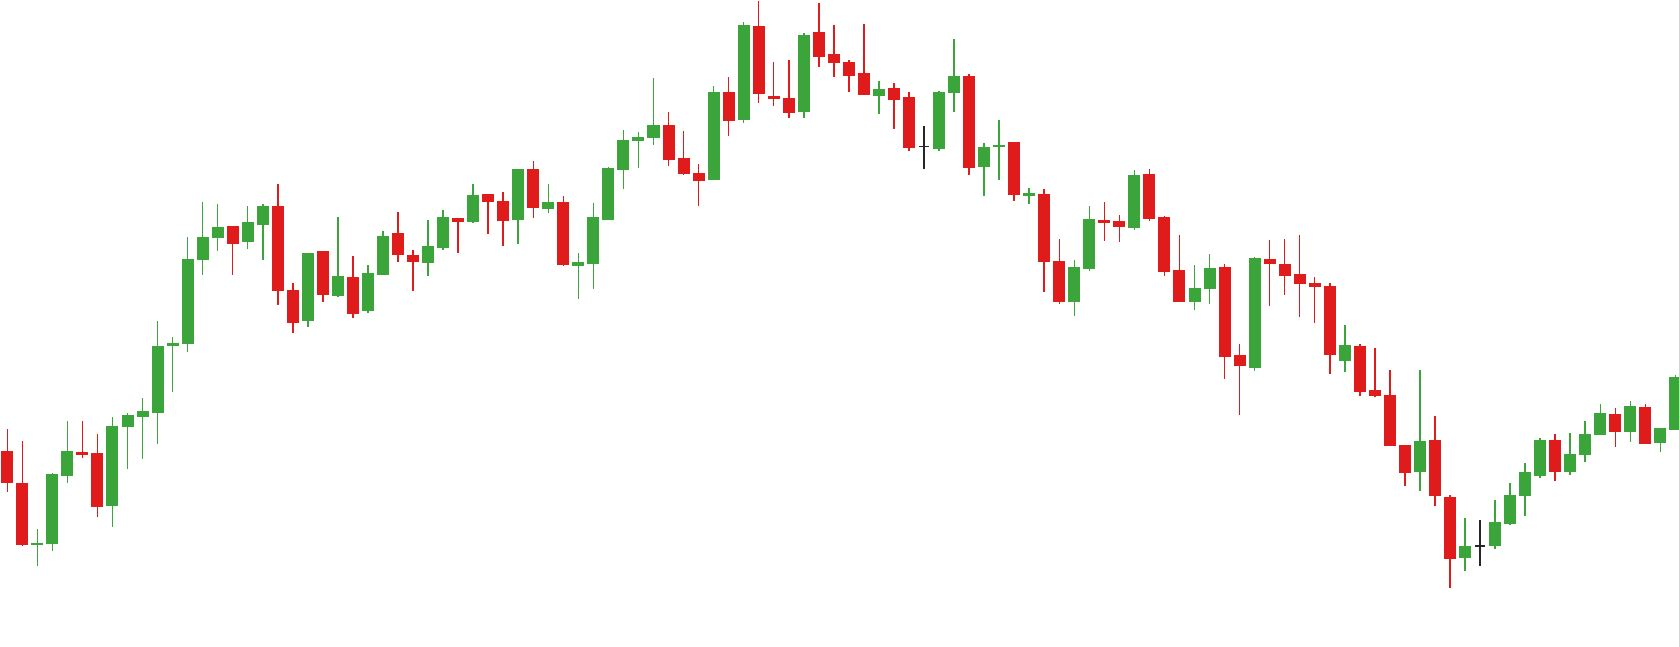buy: (480, 190, 599, 296)
sell: (644, 6, 769, 157), (1202, 236, 1291, 328)
